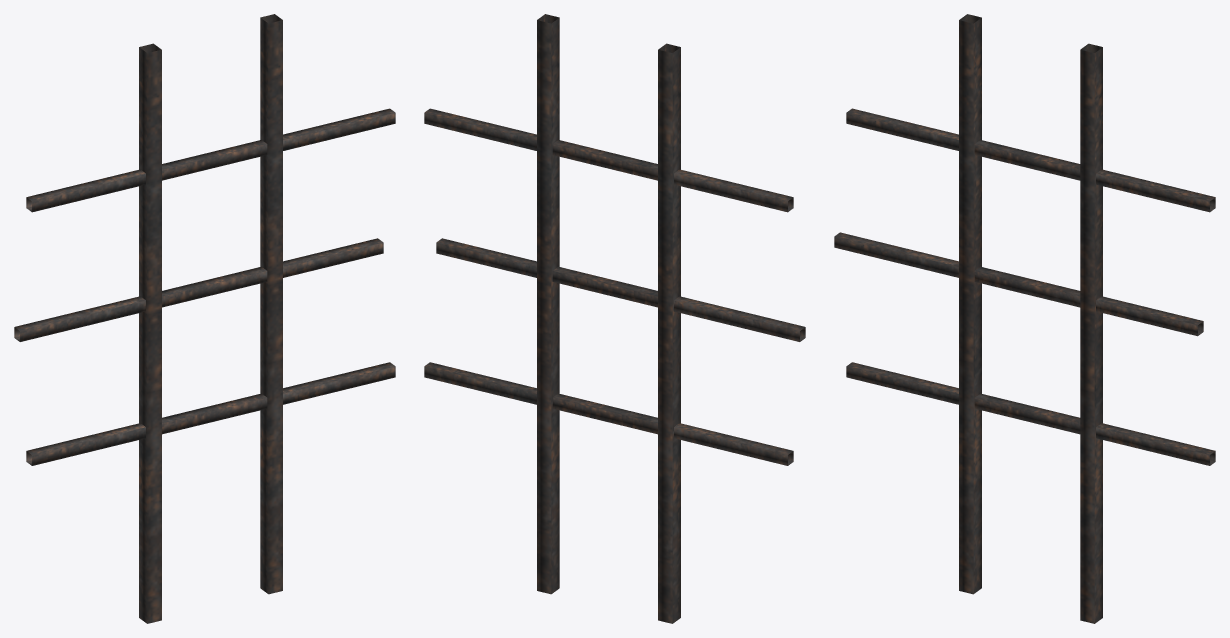
The model's file is towerblock_grate.glb.
3 views of the same model, side by side, from view 1: azimuth 30°, elevation 25°; view 2: azimuth 150°, elevation 25°; view 3: azimuth 330°, elevation 25° (orthographic).
Visible parts, largest first — view 1: towerblock_grate; view 2: towerblock_grate; view 3: towerblock_grate.
Boxes of the visible parts, left/top/right/bottom form: towerblock_grate: left=14, top=14, right=395, bottom=623; towerblock_grate: left=424, top=14, right=805, bottom=623; towerblock_grate: left=834, top=14, right=1215, bottom=623.
Size of the model in its own units: 3.1 by 4.5 by 0.1193.
Materials: 1 (1 with a texture image).
